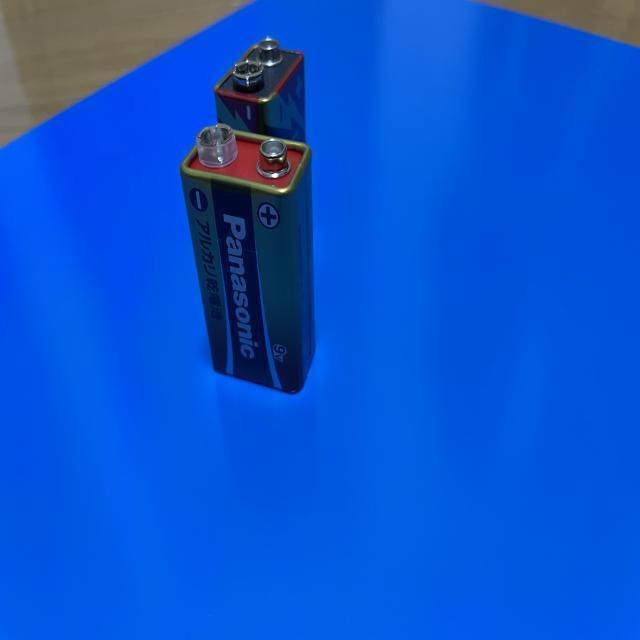9V: (180, 120, 318, 396), (215, 39, 307, 145)
